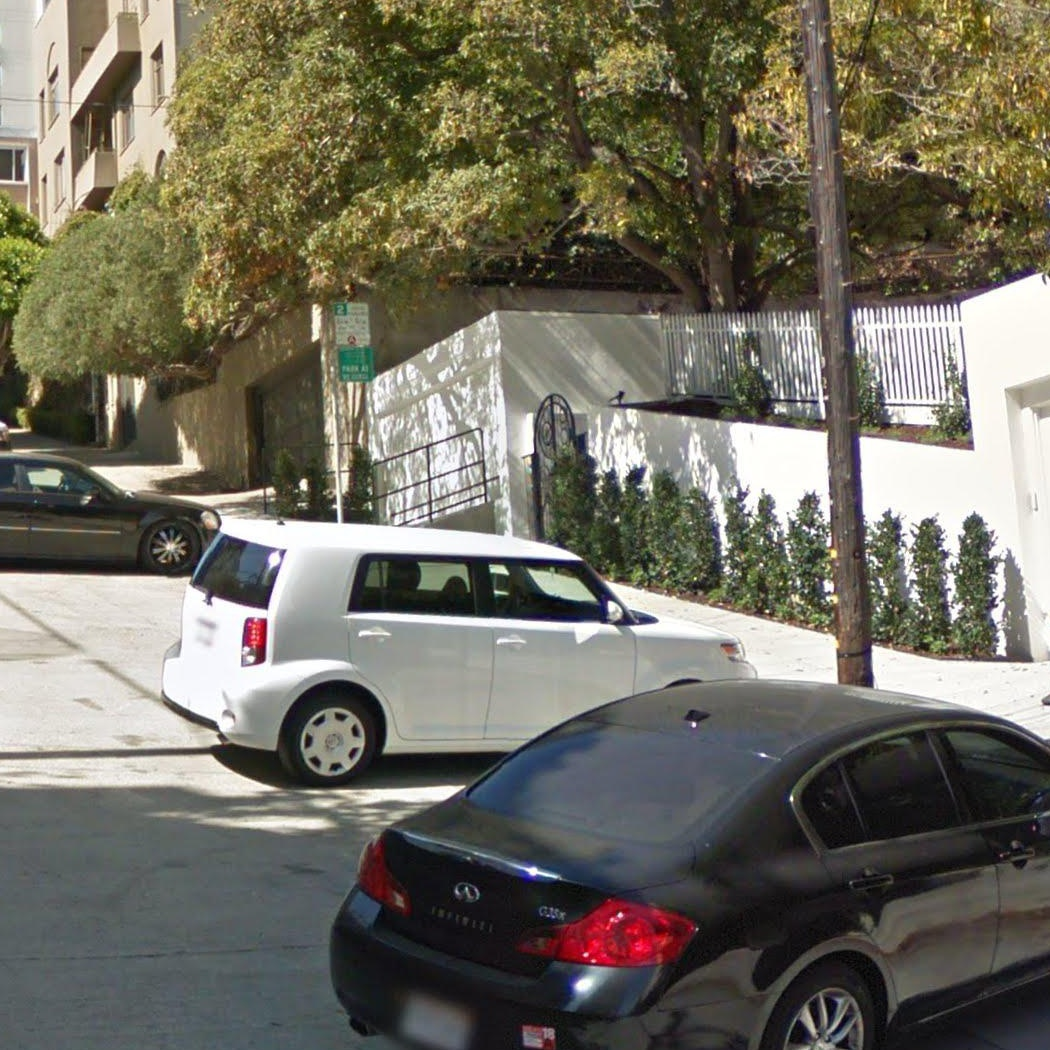2 Hour Parking: (332, 301, 371, 347)
